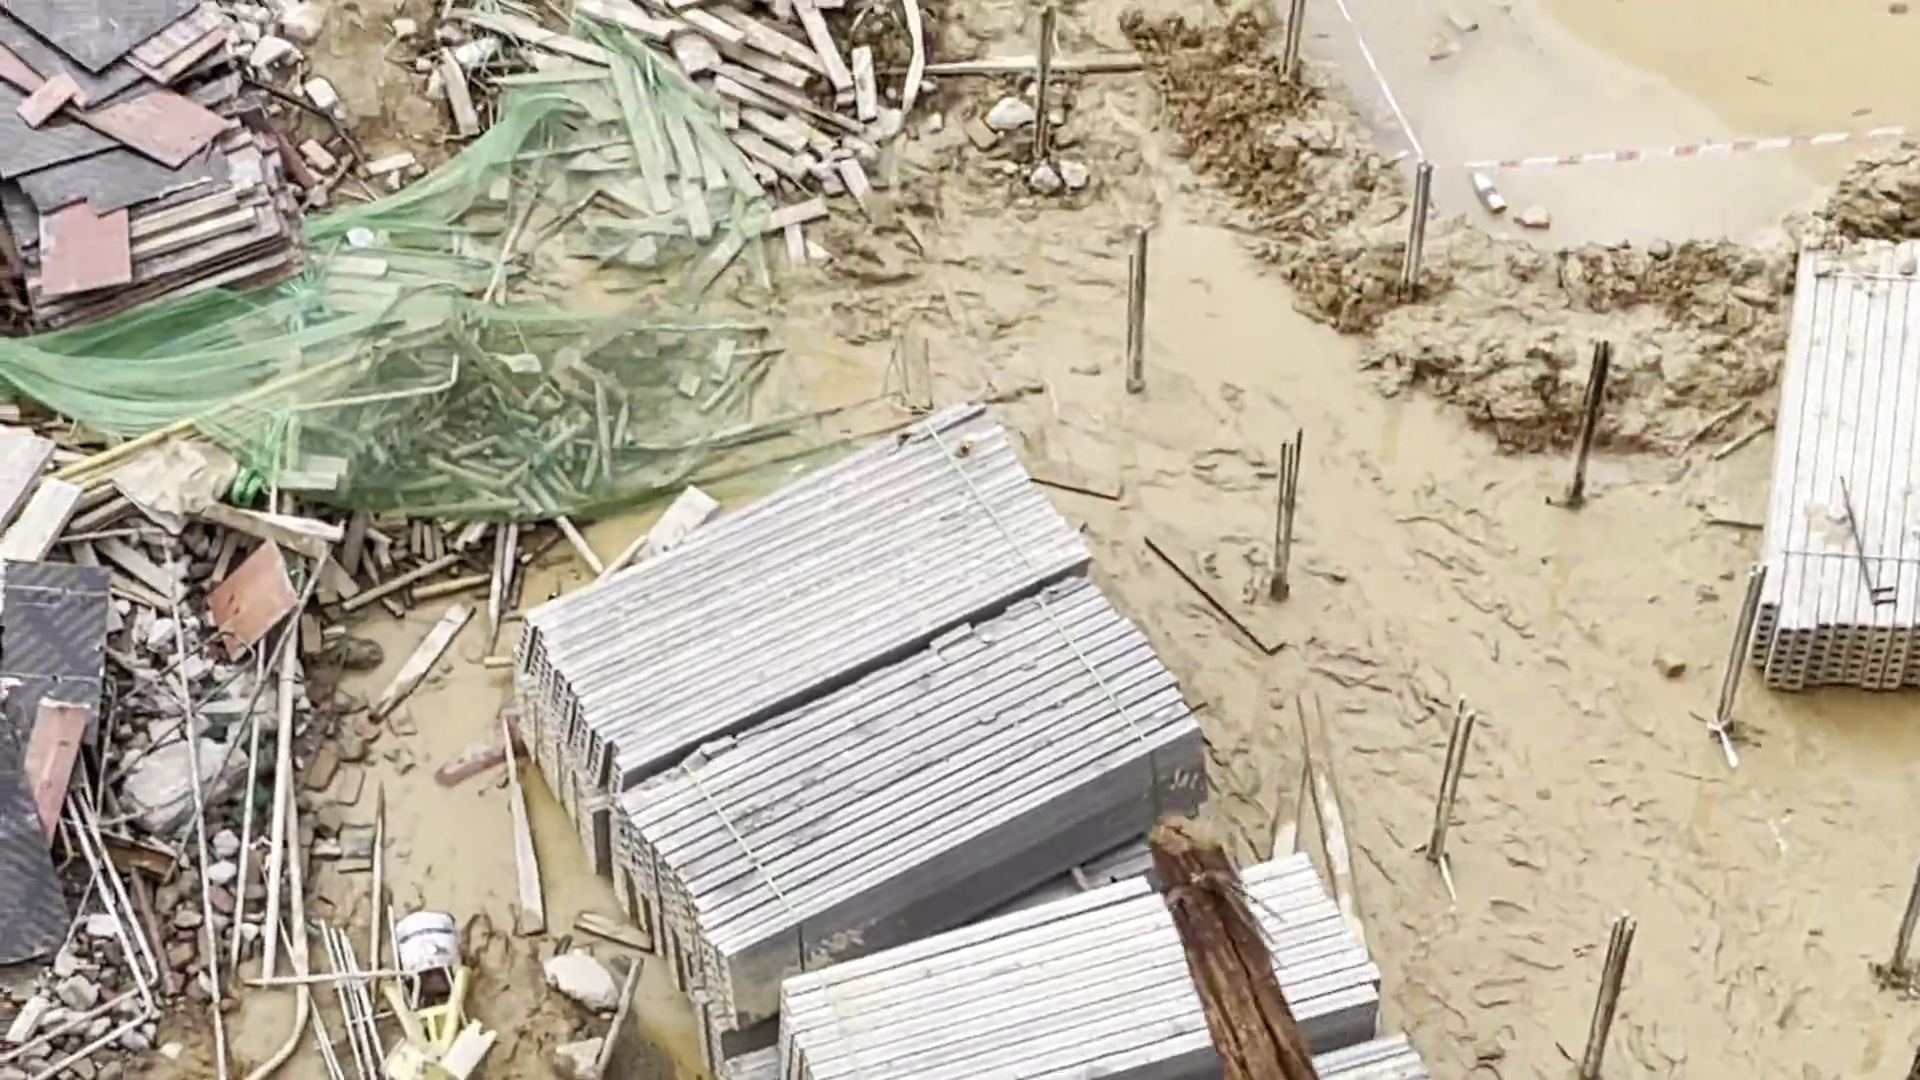board: (11, 8, 309, 316)
